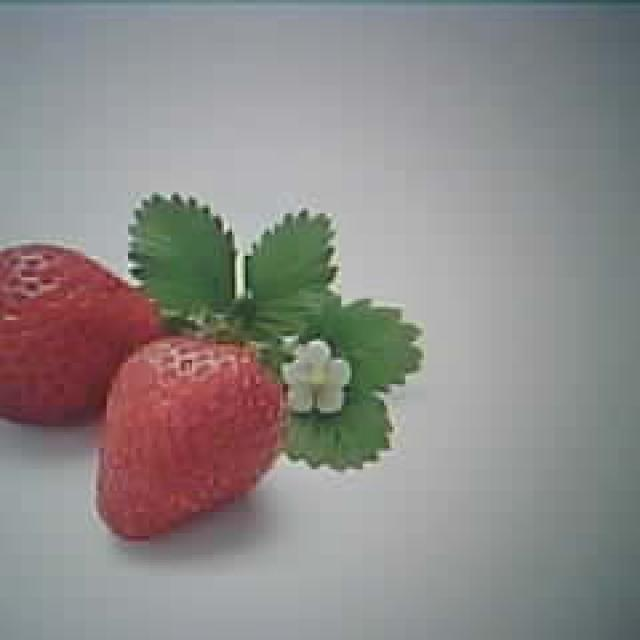ripe: (90, 340, 280, 536), (0, 246, 153, 422)
